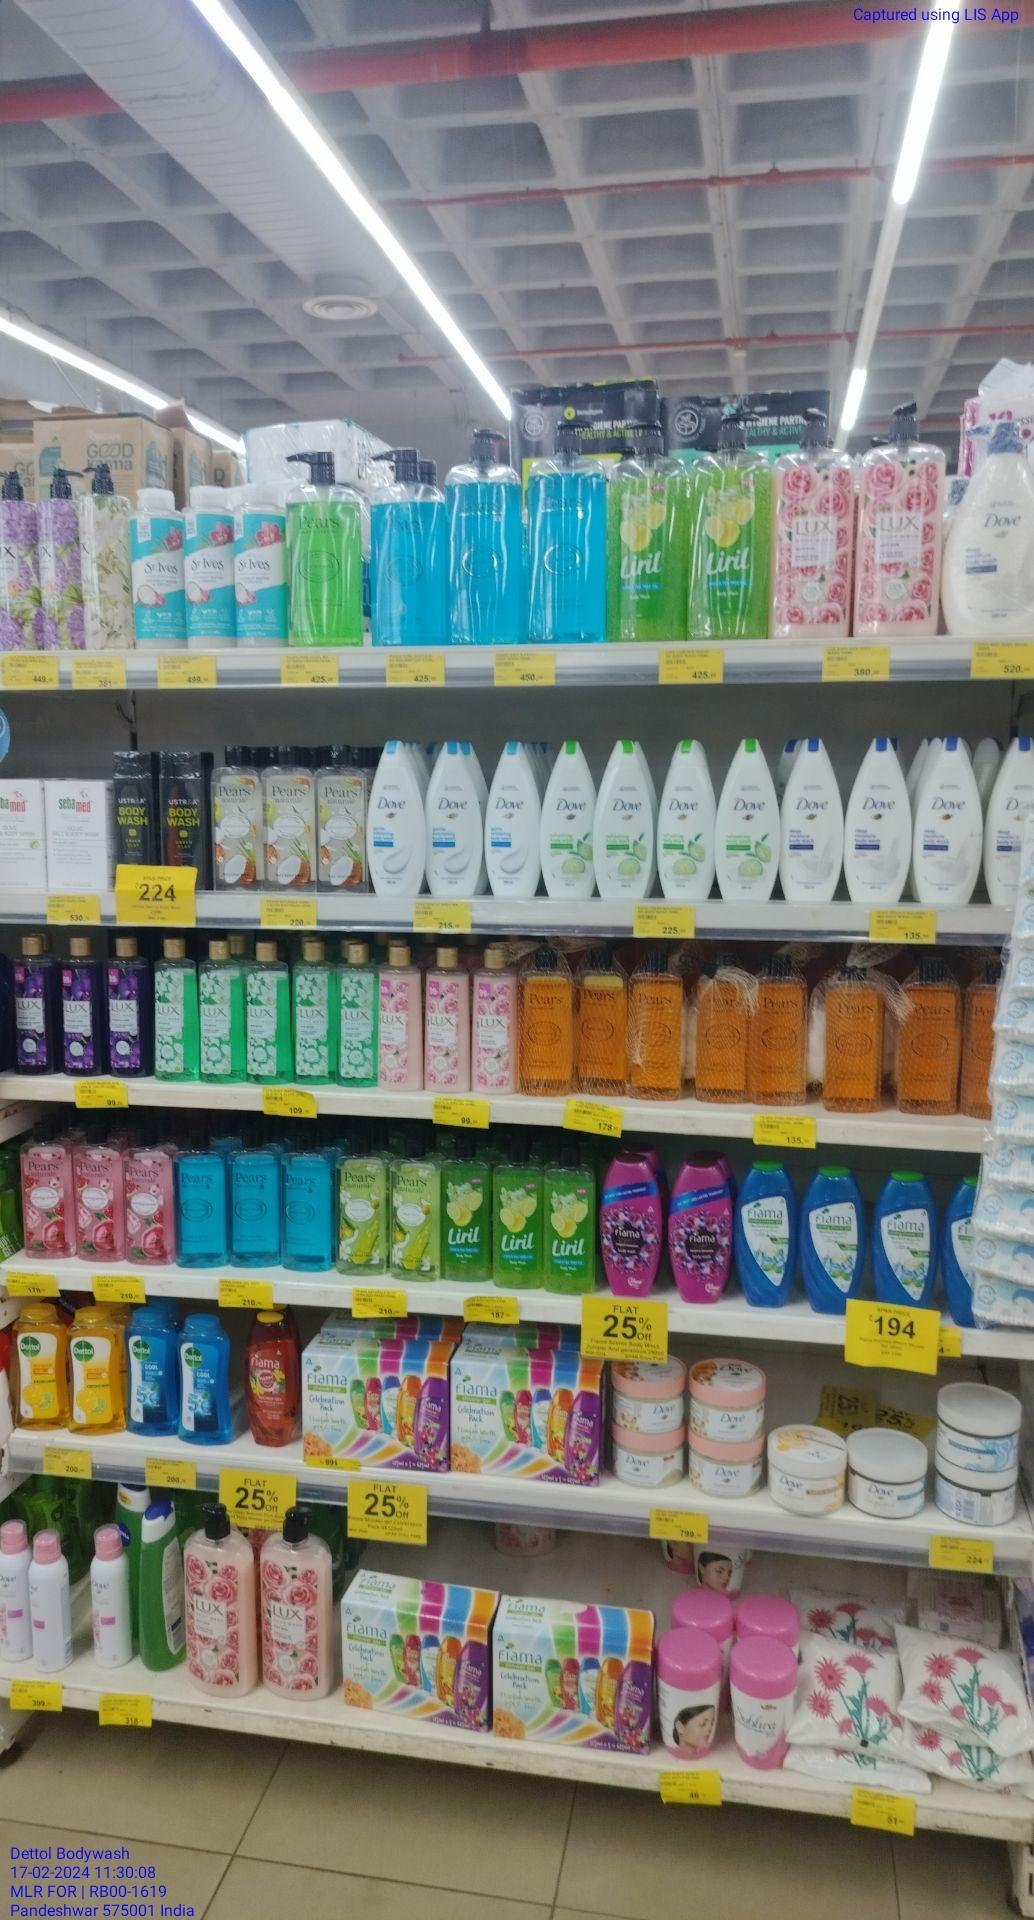Dettol_Bodywash_Cool: (181, 1309, 232, 1445), (124, 1308, 177, 1435)
Dettol_Bodywash_Refresh: (14, 1308, 71, 1432), (74, 1306, 121, 1432)
Dove_Deep_Moisture_Body_Wash_250ML: (847, 741, 912, 904), (916, 742, 979, 905), (783, 740, 843, 901)
Dove_Gentle_Exfoliating_Body_Wash_250ML: (428, 738, 483, 898), (368, 740, 421, 896), (486, 745, 540, 895)
Dove_Refreshing_Body_Wash_250ML: (656, 740, 716, 901), (719, 741, 779, 899), (598, 741, 653, 896), (542, 741, 595, 896)
Liril_Lime_and_Tea_Tree_Oil_Body_Wash_250ML: (489, 1140, 541, 1292), (545, 1137, 588, 1291), (441, 1138, 488, 1280)
Lux_Black_Orchid_Scent_and_Juniper_Oil_Body_Wash_245ML: (104, 933, 153, 1072), (59, 940, 101, 1077), (14, 936, 55, 1075)
Lux_Body_Wash_Skin_Detox_Freesia_Scent_and_Alove_Vera_245ML: (246, 941, 293, 1084), (157, 936, 197, 1082), (336, 942, 377, 1089), (201, 938, 242, 1084), (295, 938, 331, 1086)
Pears_Naturale_Aloe_Vera_Body_Wash_250ML: (387, 1136, 441, 1274), (340, 1138, 383, 1280)
Pears_Pure_Glycerin_and_Mint_Extracts_Body_Wash_250ML: (173, 1137, 229, 1266), (232, 1137, 279, 1266), (284, 1147, 330, 1271)
